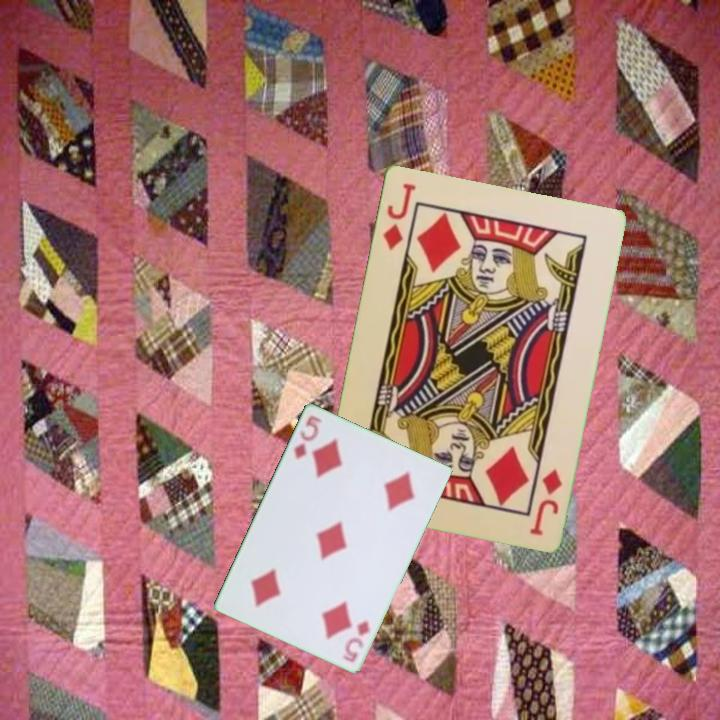5d: (290, 411, 325, 462), (339, 616, 373, 665)
Jd: (379, 179, 418, 253), (526, 464, 565, 538)
